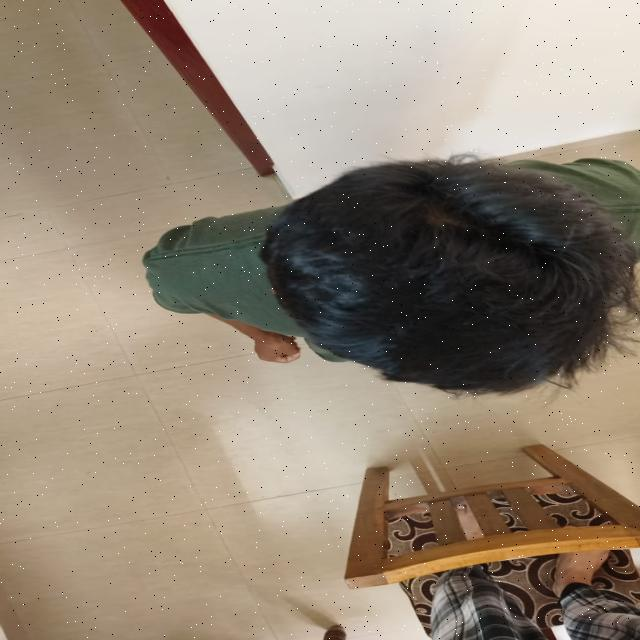humans: (128, 115, 637, 408)
